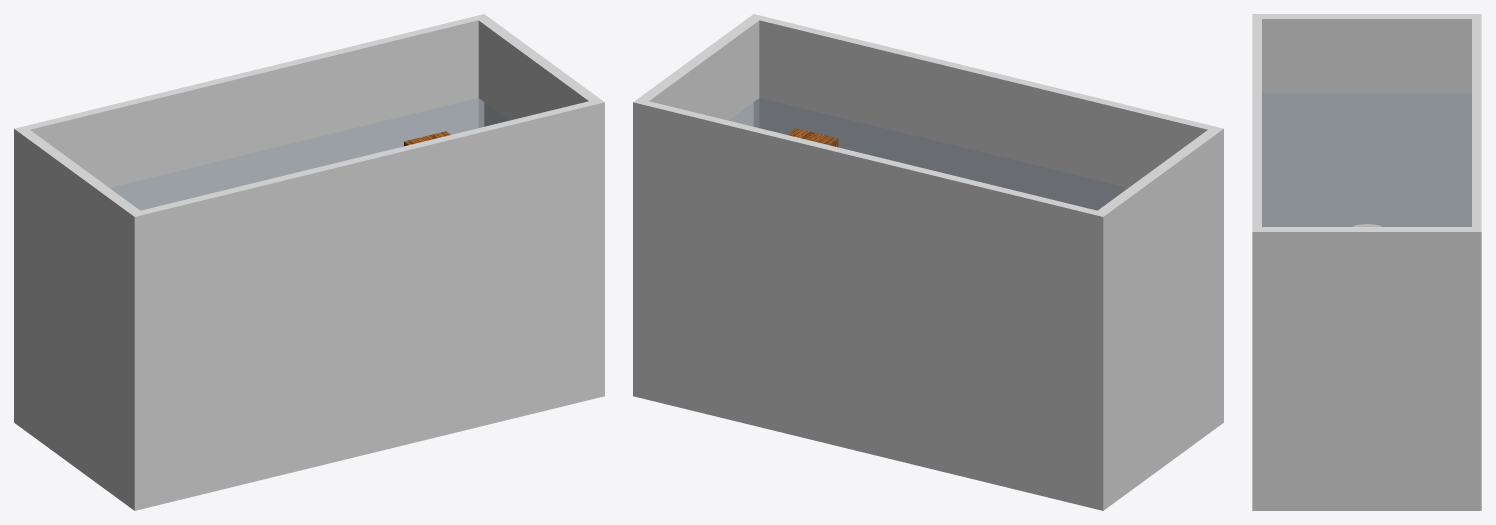
Rendered from cork obg.fbx.
3 renders of one model, left to right at view 1: azimuth 30°, elevation 25°; view 2: azimuth 150°, elevation 25°; view 3: azimuth 270°, elevation 25°, orthographic. The views are drawn at different scales.
Visible parts, largest first — view 1: pCube3; view 2: pCube3; view 3: pCube3.
Boxes of the visible parts, x1,y1,x2,y2 form: pCube3: (14,14,604,510); pCube3: (633,14,1223,510); pCube3: (1252,14,1481,510).
Bounding box in the file's own units: 0.9039 × 0.54 × 0.4017.
